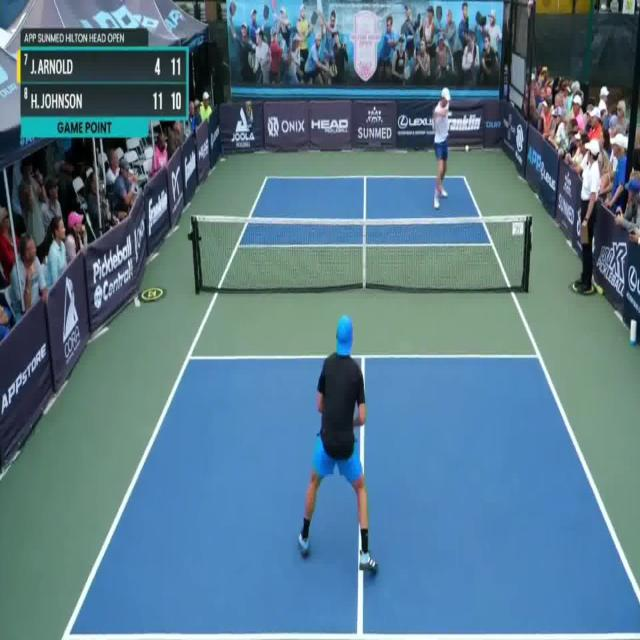Court: (65, 175, 640, 636)
ball: (463, 141, 471, 155)
